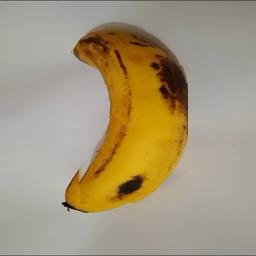Banana Semifresh: (70, 25, 188, 204)
